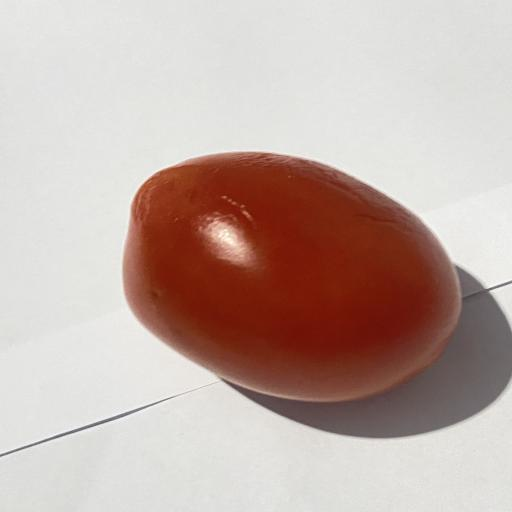spoiled: (123, 152, 461, 401)
